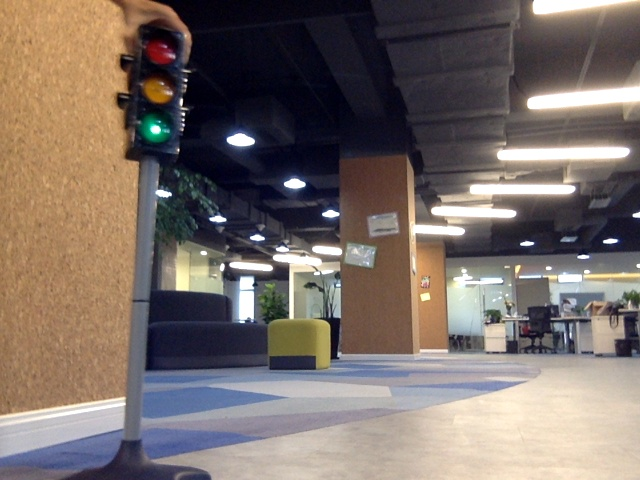green: (136, 32, 172, 146)
